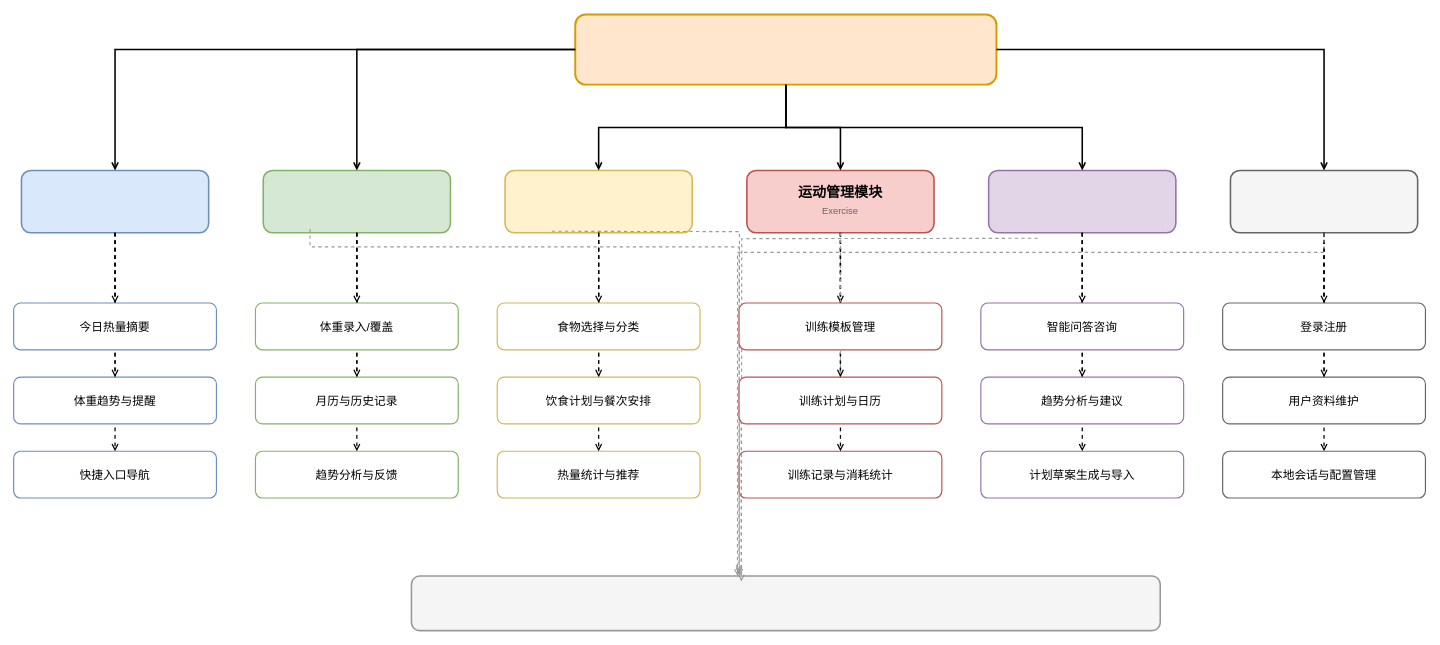
The diagram is 1440 pixels wide and 645 high, and some of its shapes have lost their labels. The shapes that lost their labels are listed below. From the top down, each one's centre as x and y in pixels, then its label:
point 785,49: 智卡管家功能模块层次图 HarmonyOS 健康管理应用
point 114,201: 首页总览模块 Home
point 356,201: 体重管理模块 Record
point 598,201: 饮食管理模块 Food
point 1081,201: AI 助手模块 Assistant
point 1323,201: 个人中心模块 Profile / Auth
point 785,603: 支撑层：本地缓存 / 后端同步 / 大模型接口
